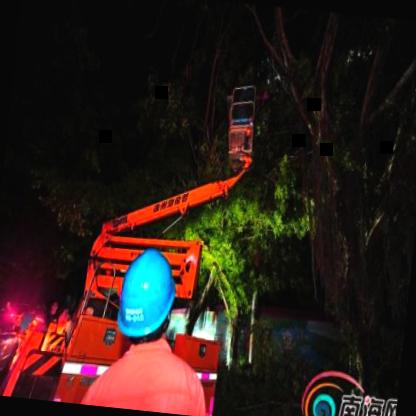helmet: (110, 237, 186, 370)
